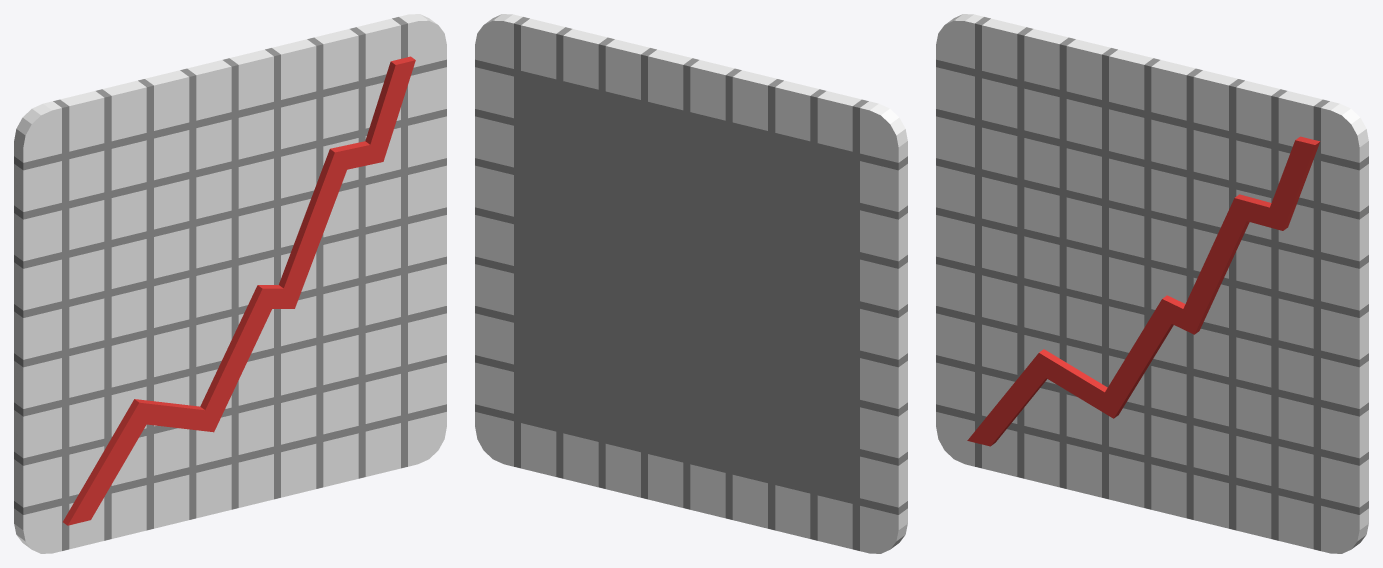
Rendered from chart_increasing.glb.
3 views of the same model, side by side, from view 1: azimuth 30°, elevation 25°; view 2: azimuth 150°, elevation 25°; view 3: azimuth 330°, elevation 25° (orthographic).
Parts seen in each view (by area): view 1: Plane.339; view 2: Plane.339; view 3: Plane.339.
Part boxes in pixels (<box>): Plane.339: <box>14,14,446,553</box>; Plane.339: <box>475,14,907,553</box>; Plane.339: <box>936,14,1368,553</box>.
Size of the model in its own units: 2.2 by 2.2 by 0.1426.
1 material, 1 textured.
